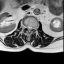CCS_normal: (28, 23, 30, 35)
LFS_normal: (32, 24, 34, 31)
LLS_normal: (30, 24, 32, 31)
RFS_normal: (24, 23, 26, 30)
RLS_normal: (26, 24, 28, 31)
